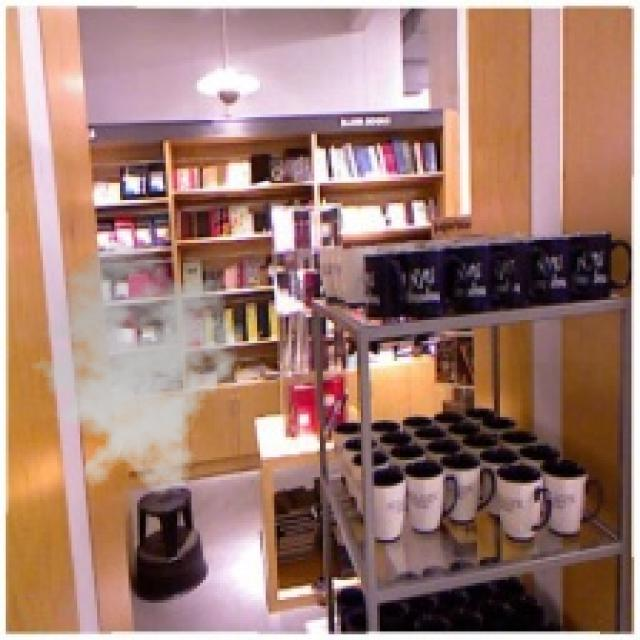smoke: (20, 243, 251, 497)
